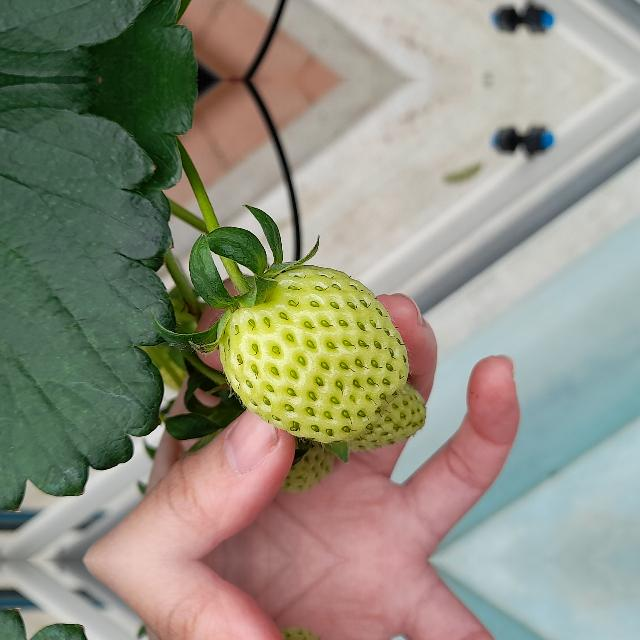Health_25: (219, 264, 409, 442)
